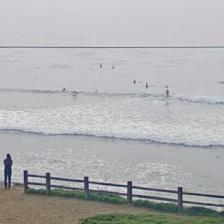surfer: (165, 89, 170, 98), (218, 80, 223, 85), (145, 82, 149, 88), (73, 90, 77, 95), (112, 65, 116, 69), (133, 80, 136, 84), (100, 64, 102, 68), (63, 88, 66, 90), (166, 85, 168, 88), (95, 90, 97, 92)
